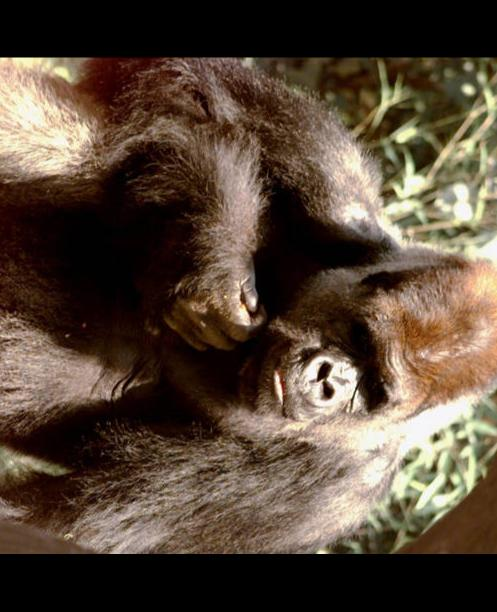gorille_Autres: (0, 60, 497, 554)
